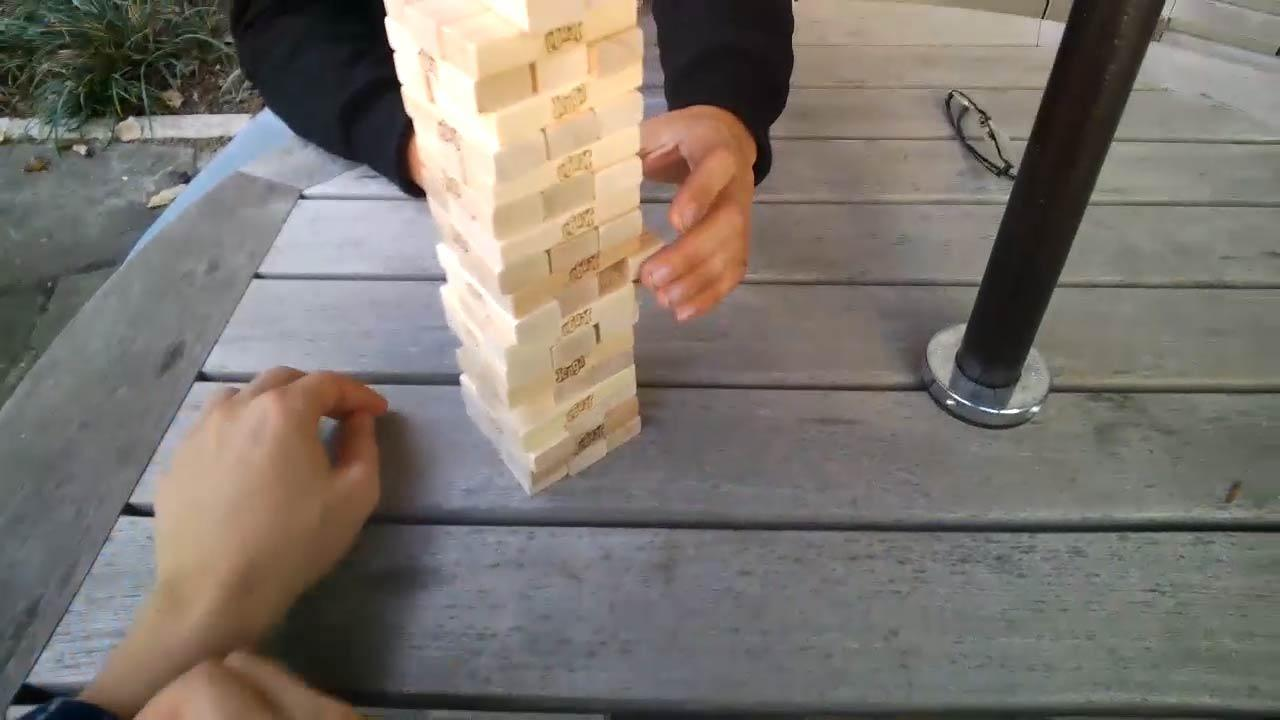hand: (155, 365, 387, 619), (640, 106, 750, 323)
